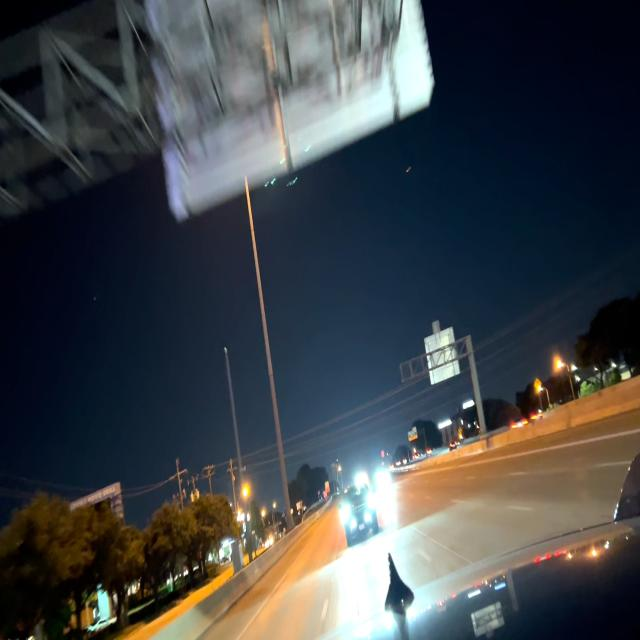back-of-sign: (144, 0, 433, 223), (420, 321, 460, 388)
